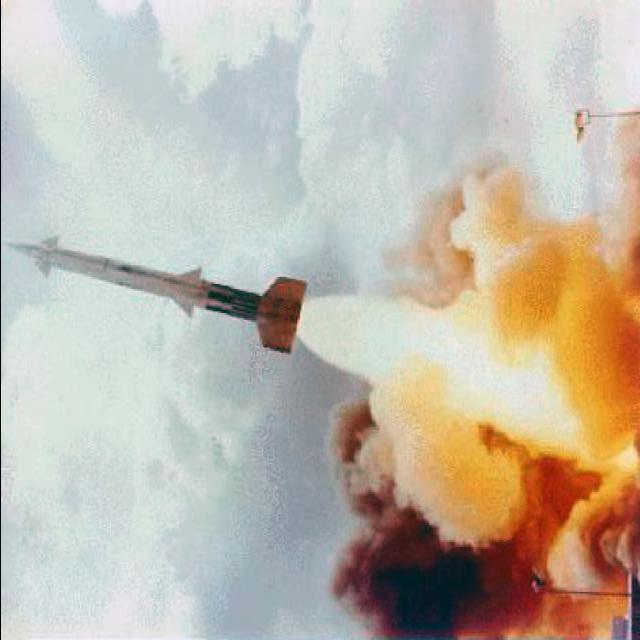missile: (0, 225, 311, 353)
